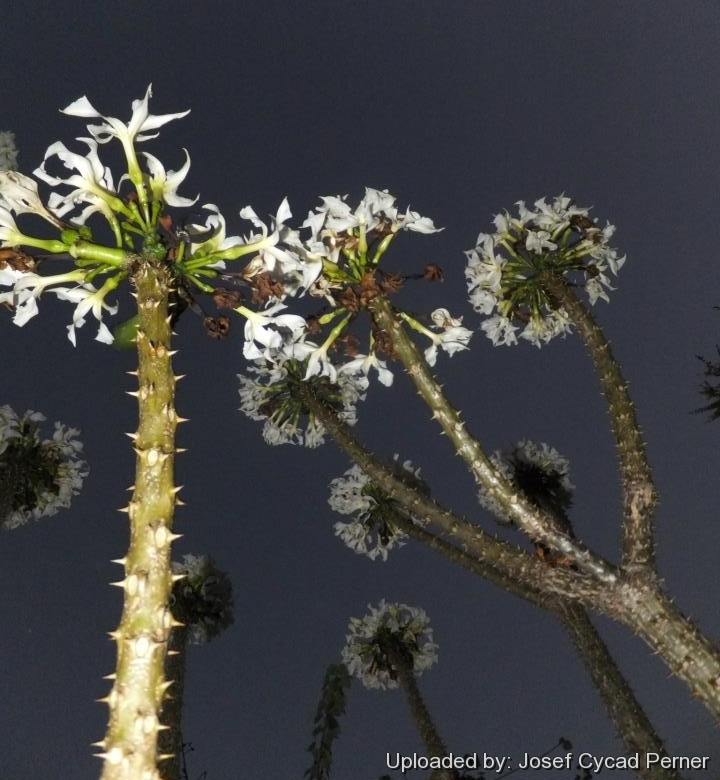Pachypodium meridionale: (273, 194, 706, 712), (47, 101, 216, 775)
